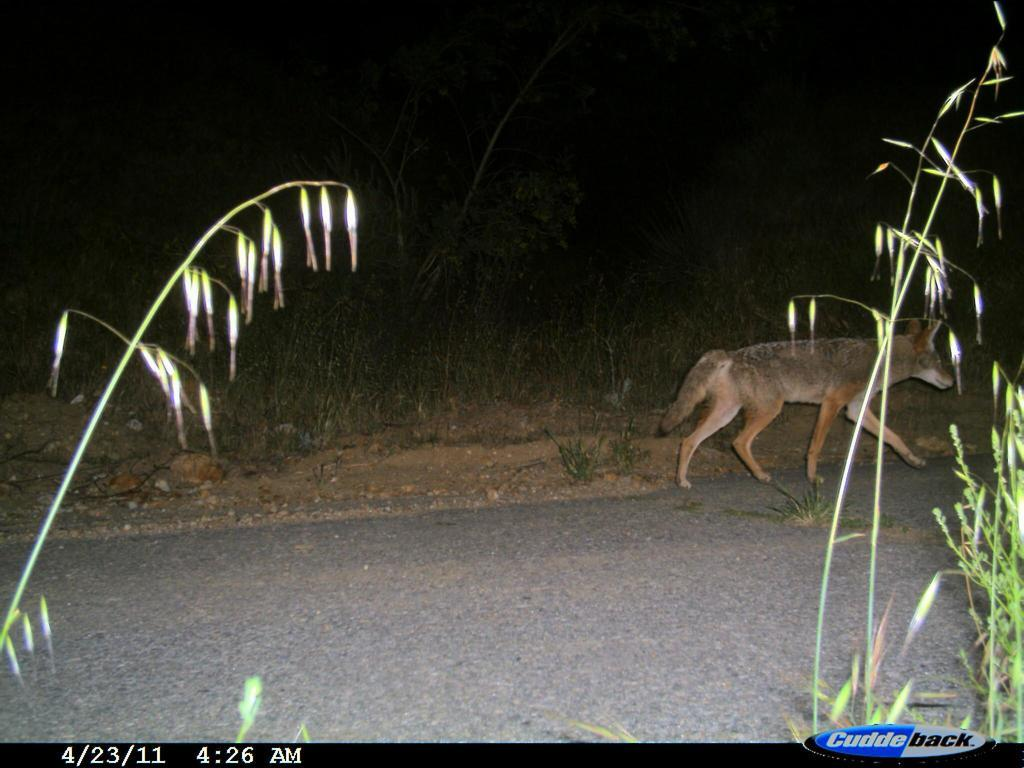coyote: (649, 313, 957, 493)
